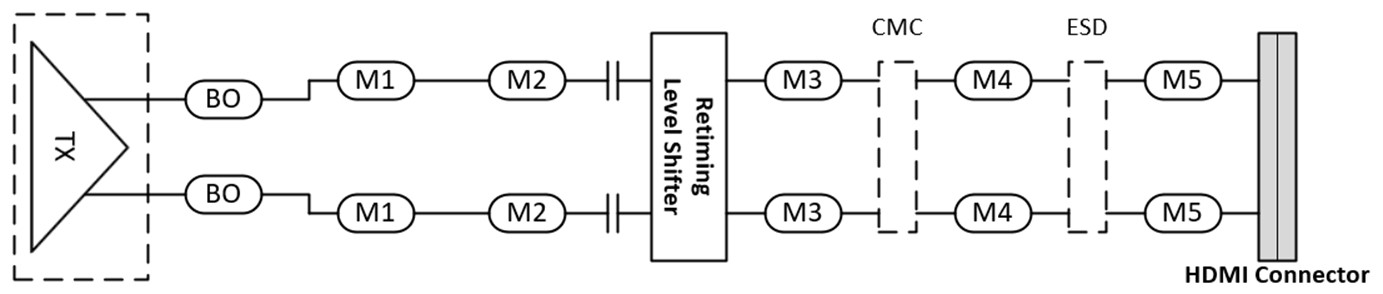capacitor: (597, 54, 628, 108), (601, 186, 624, 241)
dotted_rectangle: (9, 11, 153, 286), (1065, 58, 1110, 235), (876, 59, 920, 236)
oval: (184, 76, 265, 122), (489, 190, 568, 237), (487, 57, 569, 102), (336, 57, 417, 102), (184, 170, 263, 215), (337, 188, 416, 233), (956, 190, 1033, 236), (765, 58, 842, 101), (766, 191, 843, 233), (956, 61, 1032, 103), (1143, 194, 1222, 231), (1147, 62, 1222, 100)
rectangle: (651, 30, 730, 264), (1259, 32, 1299, 264)
triangle: (27, 39, 129, 253)
